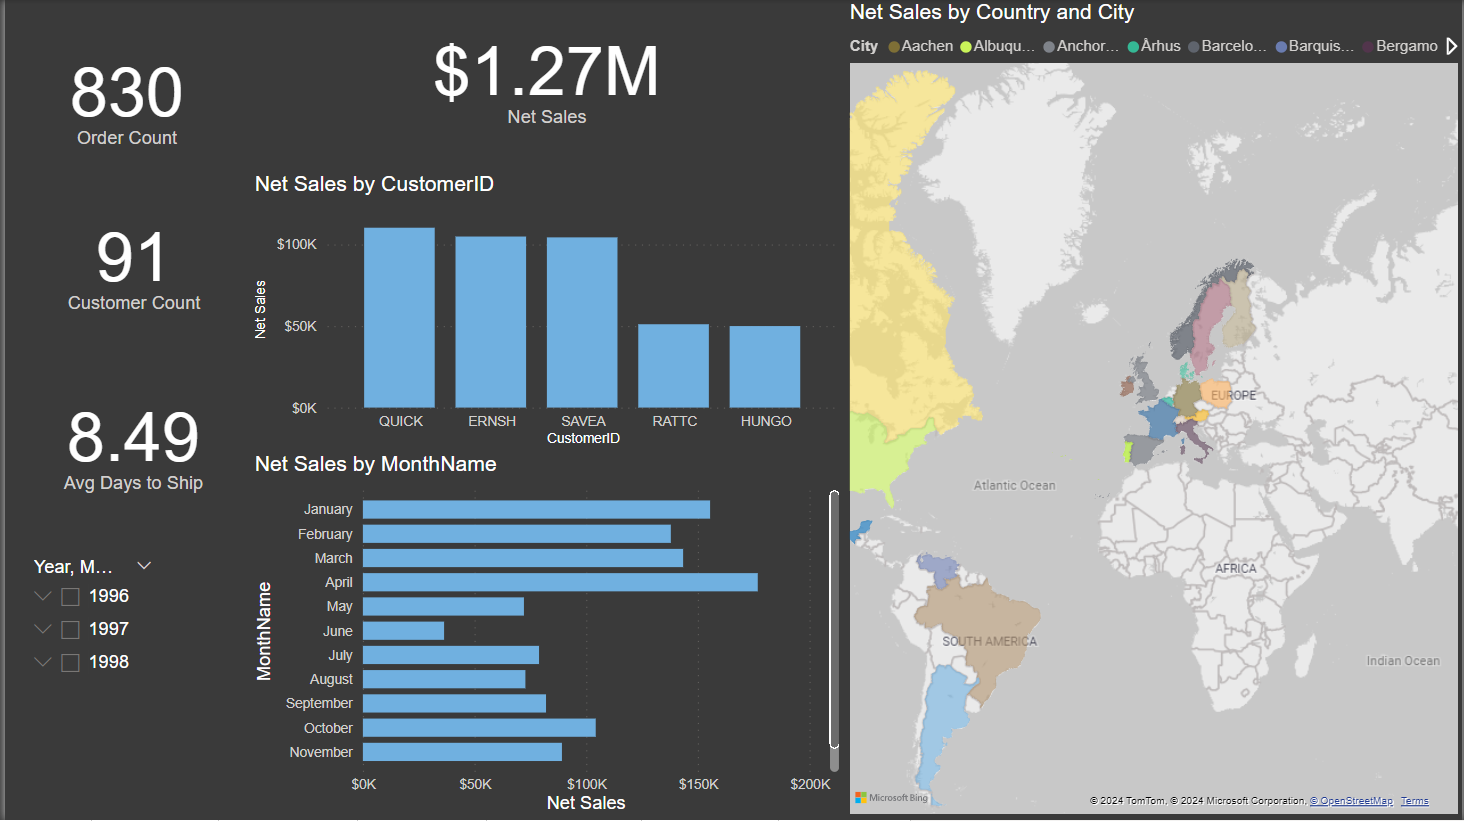

Layout of this report page (visuals, bound fields, positions):
{"tool":"powerbi","page":{"name":"overview Report :","canvas":[1280,720],"ordinal":0},"visuals":[{"type":"card","fields":{"Values":["Categories.Net Sales"]},"box":[214.2,0,523.3,131.7],"z":0},{"type":"card","fields":{"Values":["Categories.Customer Count"]},"box":[12.3,158.9,202,140.5],"z":1000},{"type":"card","fields":{"Values":["Categories.Order Count"]},"box":[0,0,214.2,168.6],"z":2000},{"type":"card","fields":{"Values":["Categories.Avg Days to Ship"]},"box":[11.4,290.6,202.8,193.2],"z":3000},{"type":"clusteredBarChart","fields":{"Category":["DateDimension_new.MonthName"],"Y":["Categories.Net Sales"]},"box":[214.6,397.2,523.2,321.9],"z":4000},{"type":"slicer","fields":{"Values":["DateDimension_new.Year","DateDimension_new.MonthName"]},"box":[12.4,484.1,128.6,224.3],"z":5000},{"type":"clusteredColumnChart","fields":{"Category":["Customers.CustomerID"],"Y":["Categories.Net Sales"]},"box":[214.2,151,523.3,245.9],"z":6000},{"type":"filledMap","fields":{"Category":["Customers.Country"],"Series":["Customers.City"]},"box":[736.8,0,543.5,720],"z":7000}]}

Visuals, with their boxes in screenshot pixels (x1, y1, x2, y2), scaled from the page's 1280x720 canvas onto the 1464x821 screenshot:
card - Categories.Net Sales: [245, 0, 844, 150]
card - Categories.Customer Count: [14, 181, 245, 341]
card - Categories.Order Count: [0, 0, 245, 192]
card - Categories.Avg Days to Ship: [13, 331, 245, 552]
clusteredBarChart - DateDimension_new.MonthName x Categories.Net Sales: [245, 453, 844, 820]
slicer - DateDimension_new.Year x DateDimension_new.MonthName: [14, 552, 161, 808]
clusteredColumnChart - Customers.CustomerID x Categories.Net Sales: [245, 172, 844, 453]
filledMap - Customers.Country x Customers.City: [843, 0, 1463, 820]
